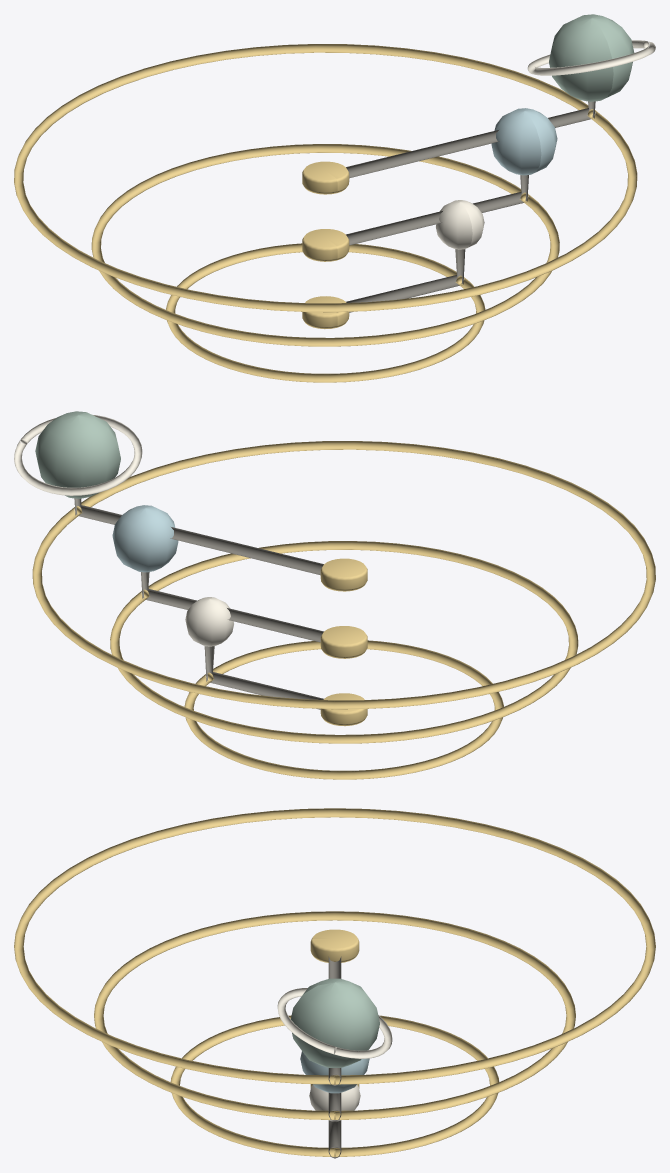
File: orrery_tray_plumage.glb
The picture shows the model from 3 angles, top to bottom: view 1: azimuth 30°, elevation 25°; view 2: azimuth 150°, elevation 25°; view 3: azimuth 270°, elevation 25°; orthographic projection. The views are drawn at different scales.
Visible parts, largest first — view 1: Orrery_Orbit_Frame_2, Orrery_Orbit_Frame_1, Orrery_Orbit_Frame_0, Orrery_Planet_2, Orrery_Planet_1, Orrery_Planet_0, Orrery_Planet_Ring; view 2: Orrery_Orbit_Frame_2, Orrery_Orbit_Frame_1, Orrery_Orbit_Frame_0, Orrery_Planet_2, Orrery_Planet_1, Orrery_Planet_Ring, Orrery_Planet_0; view 3: Orrery_Orbit_Frame_2, Orrery_Orbit_Frame_1, Orrery_Orbit_Frame_0, Orrery_Planet_2, Orrery_Planet_Ring, Orrery_Planet_1, Orrery_Planet_0.
Part boxes in pixels (x1,y1,x2,y2): Orrery_Orbit_Frame_2: (14, 44, 637, 312); Orrery_Orbit_Frame_1: (91, 144, 559, 346); Orrery_Orbit_Frame_0: (166, 243, 485, 382); Orrery_Planet_2: (549, 14, 634, 101); Orrery_Planet_1: (491, 108, 557, 175); Orrery_Planet_0: (436, 200, 484, 249); Orrery_Planet_Ring: (527, 40, 655, 75); Orrery_Orbit_Frame_2: (32, 441, 655, 709); Orrery_Orbit_Frame_1: (110, 541, 578, 743); Orrery_Orbit_Frame_0: (184, 640, 503, 779); Orrery_Planet_2: (35, 411, 120, 498); Orrery_Planet_1: (112, 505, 178, 572); Orrery_Planet_Ring: (14, 415, 142, 495); Orrery_Planet_0: (185, 597, 233, 646); Orrery_Orbit_Frame_2: (14, 808, 655, 1085); Orrery_Orbit_Frame_1: (94, 911, 575, 1121); Orrery_Orbit_Frame_0: (170, 1015, 499, 1158); Orrery_Planet_2: (291, 978, 379, 1067); Orrery_Planet_Ring: (277, 988, 392, 1058); Orrery_Planet_1: (300, 1051, 369, 1093); Orrery_Planet_0: (309, 1085, 360, 1121).
Size of the model in its own units: 0.4267 by 0.1625 by 0.3881.
